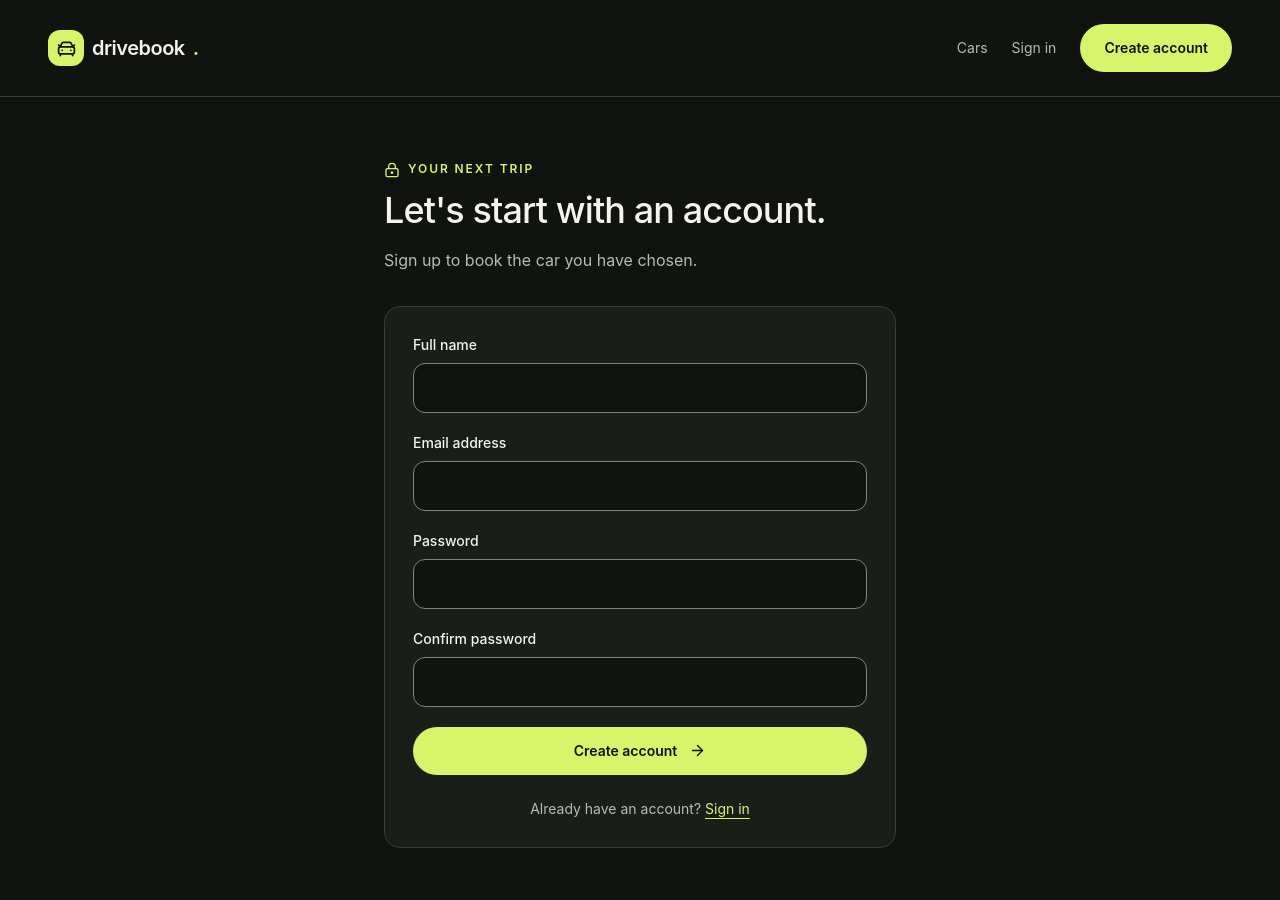
it: registration › fetches the CSRF cookie and sends the registration form, then shows the user
Type "Demo Driver" into the field labelled "Full name" at (640, 388), box [413,363,867,413]
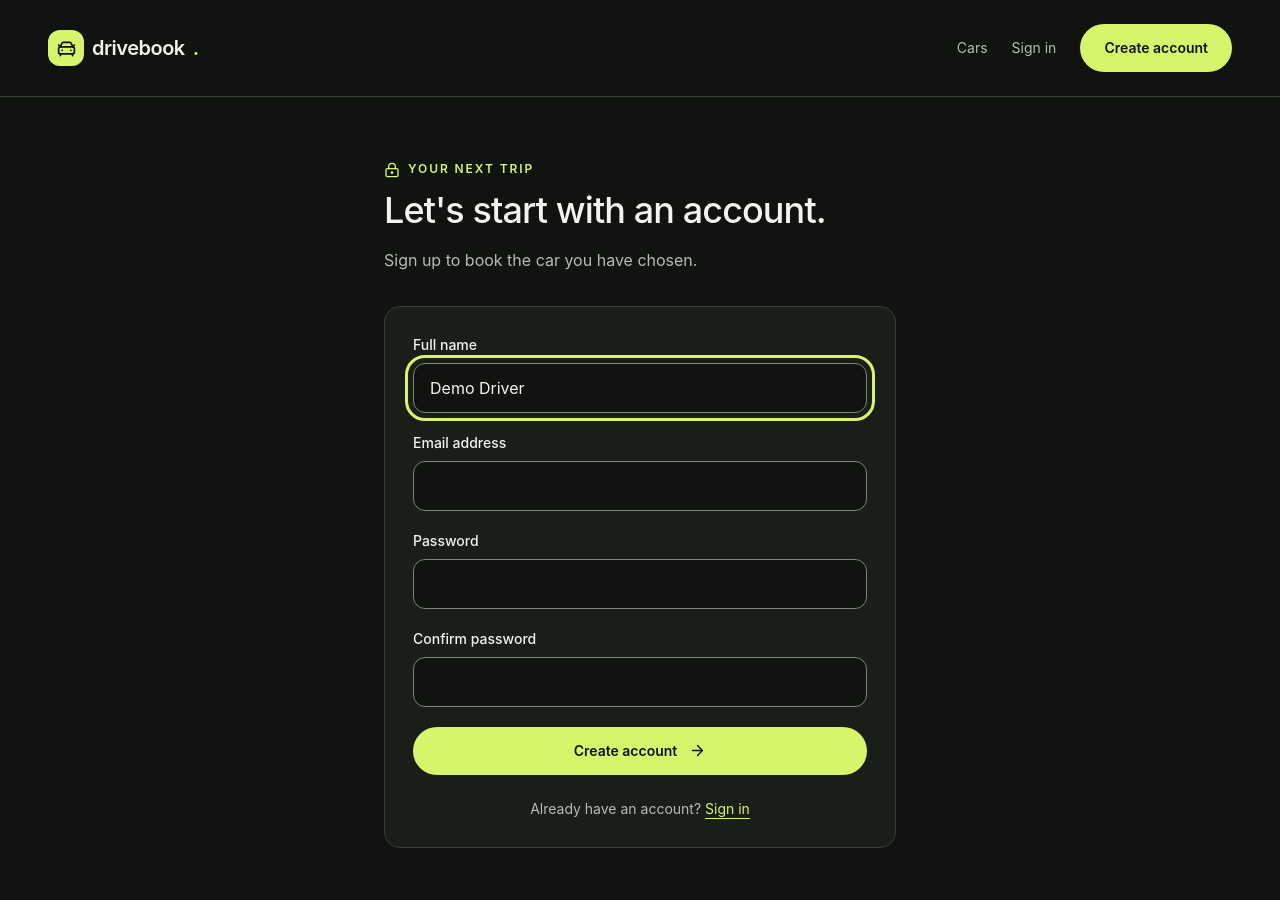
Type "demo@drivebook.test" into the field labelled "Email address" at (640, 486), box [413,461,867,511]
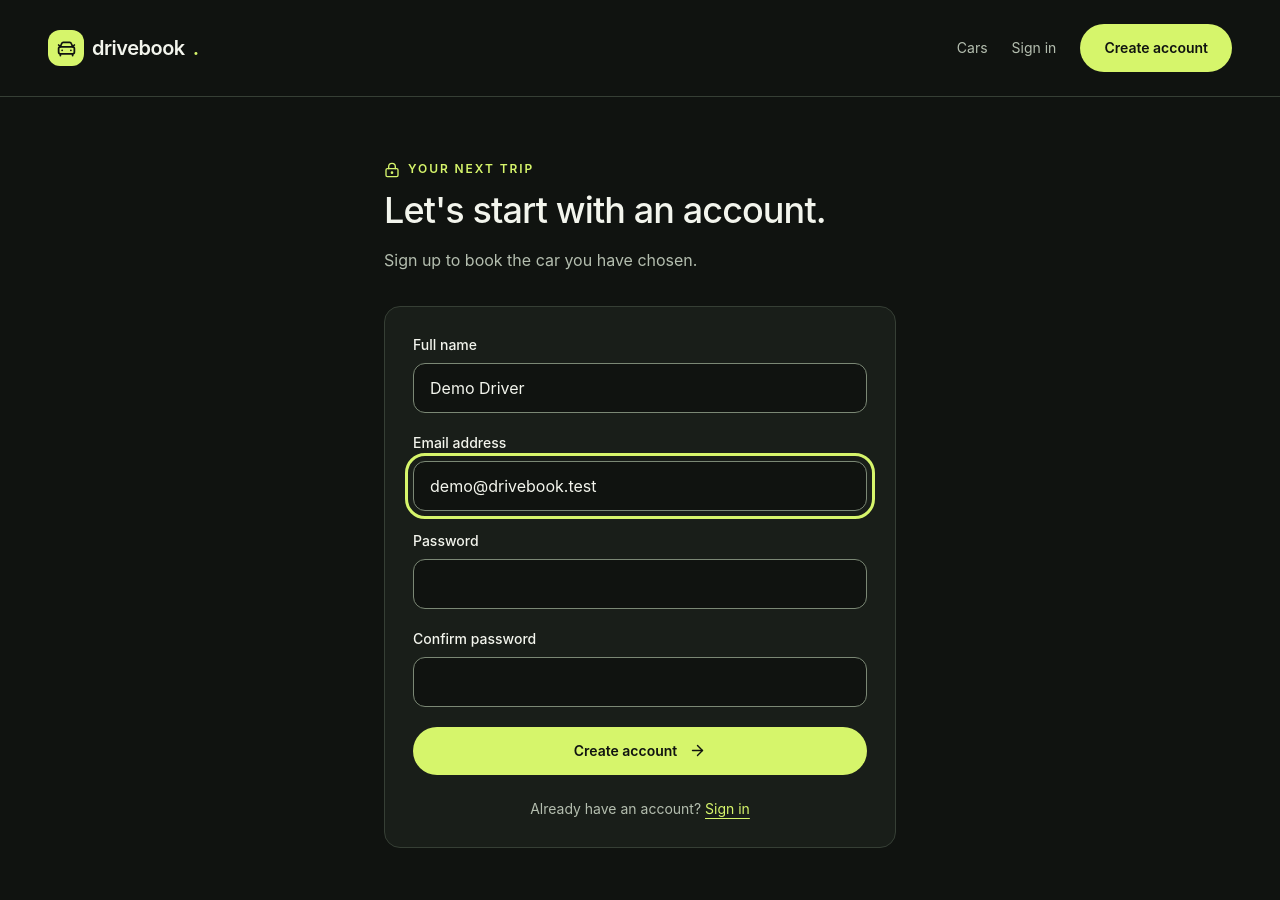
Type "demo-password-123" into the password field labelled "Password" at (640, 584), box [413,559,867,609]
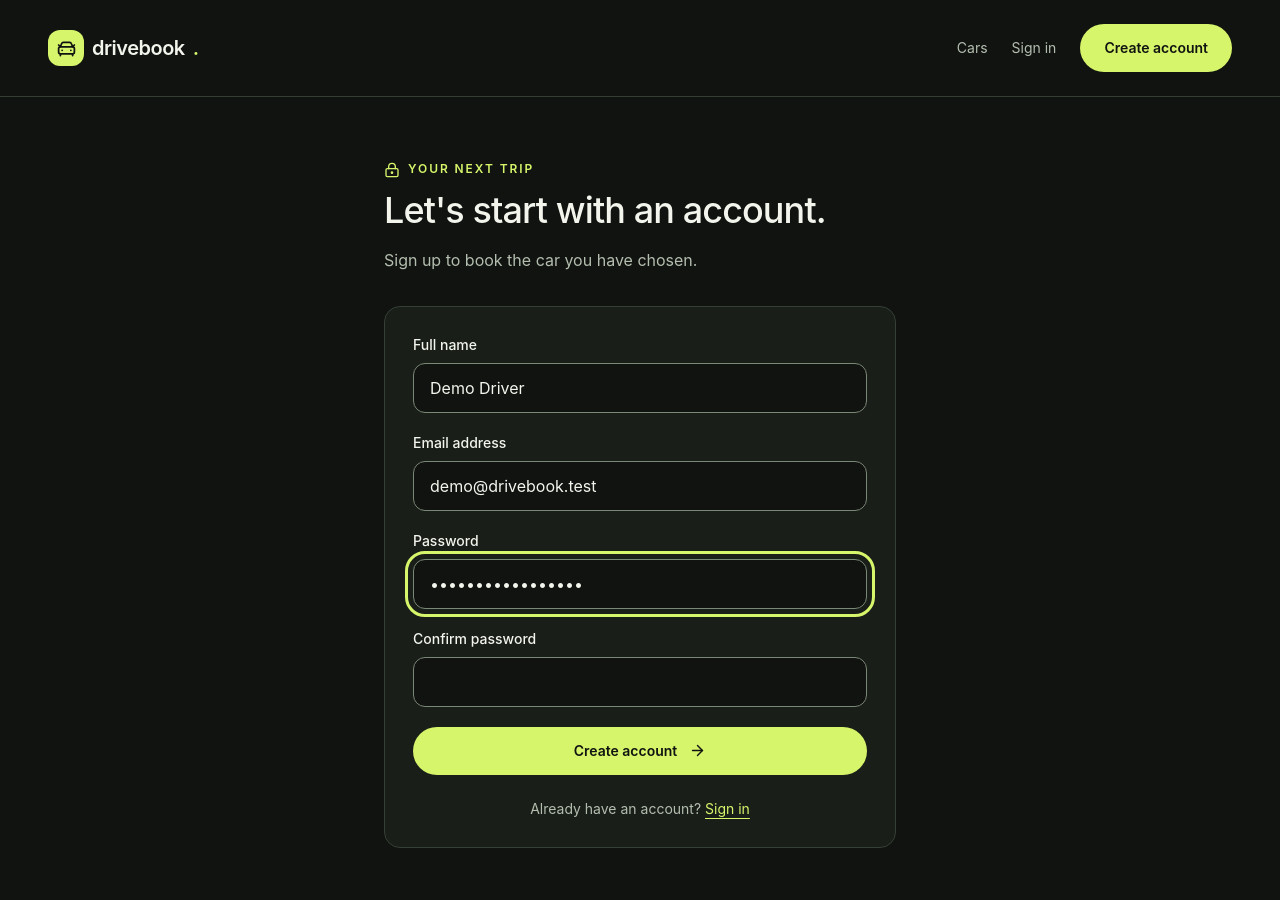
Type "demo-password-123" into the password field labelled "Confirm password" at (640, 682), box [413,657,867,707]
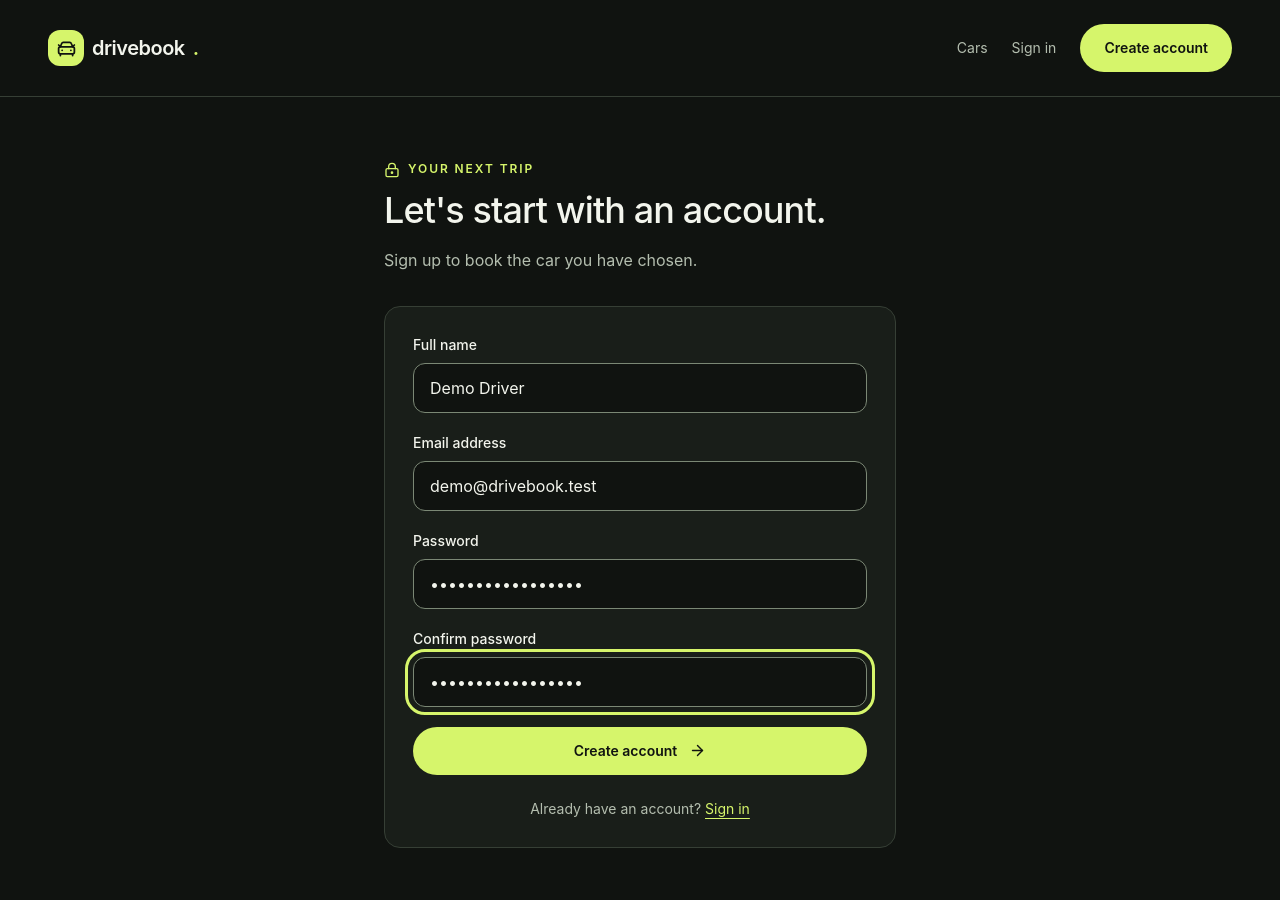
Click the button "Create account" at (640, 751), box [413,727,867,775]
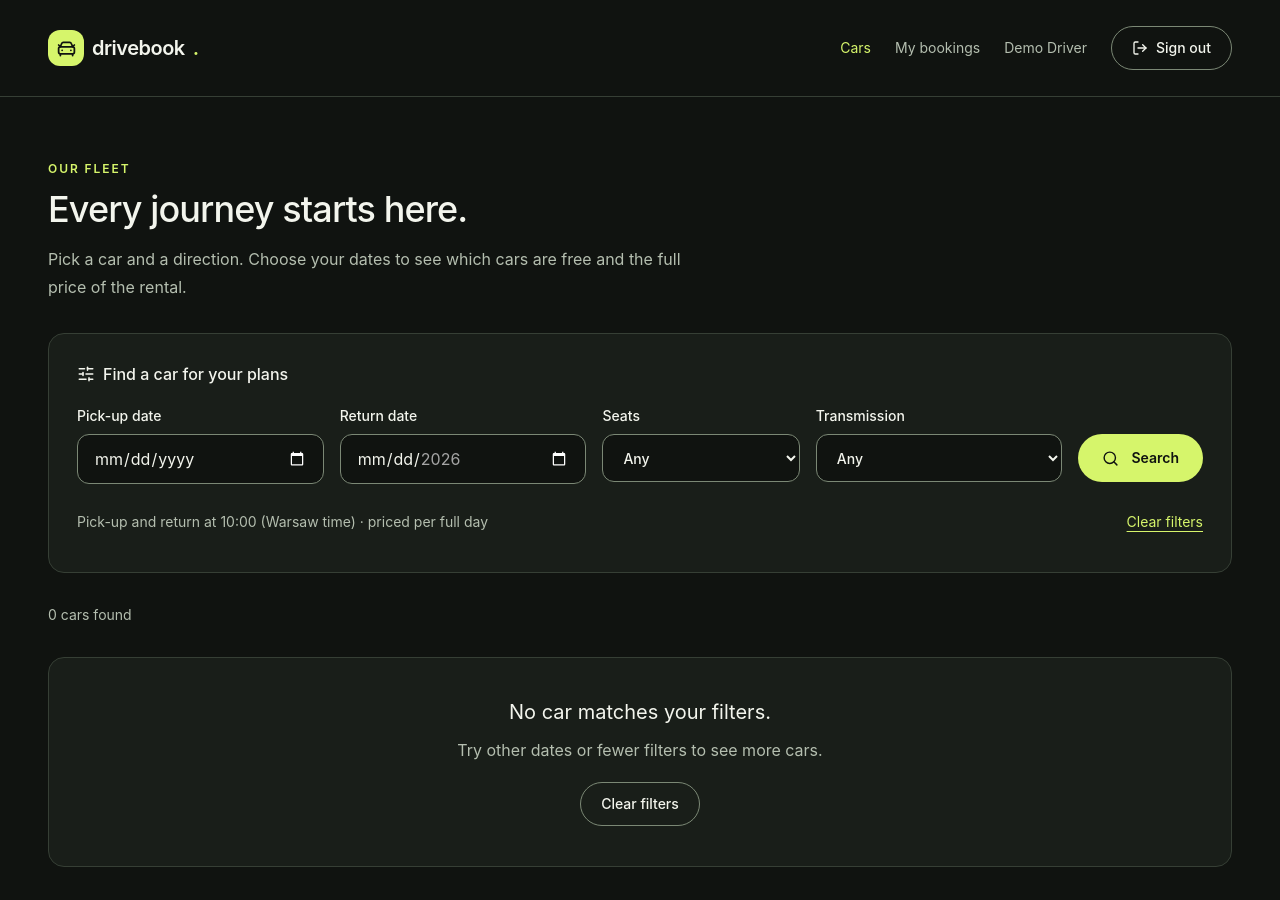
Check: the text "Demo Driver" is shown, box [1004,38,1087,58]
